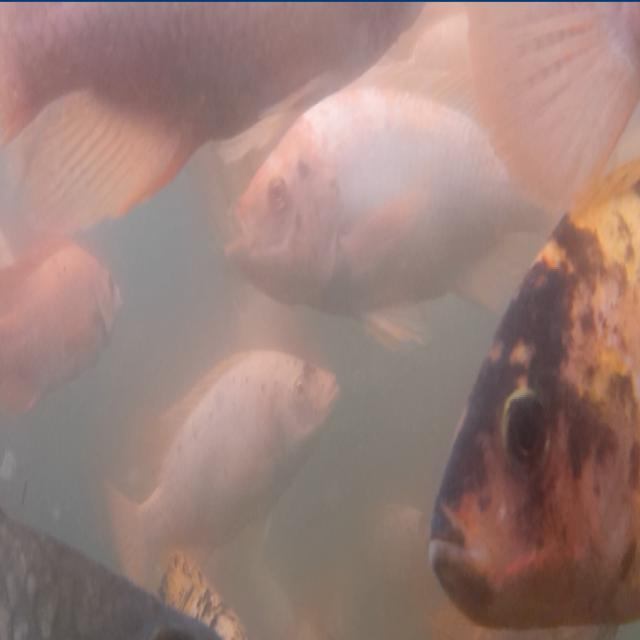ikan: (427, 152, 639, 633), (222, 76, 552, 334), (102, 345, 341, 594), (0, 232, 122, 415)
